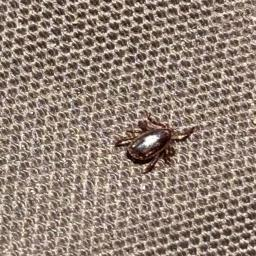Rhipicephalus sanguineus: (114, 115, 195, 176)
